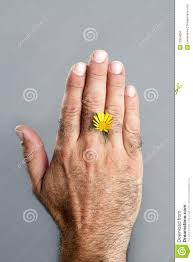hand: (16, 39, 163, 252)
